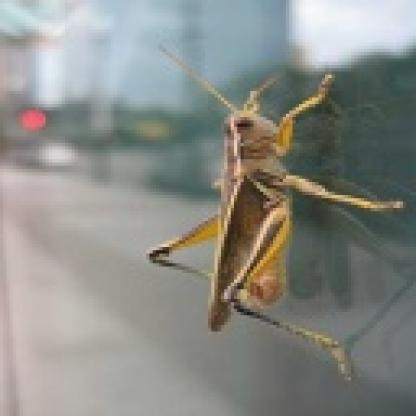grasshopper: (145, 37, 404, 383)
